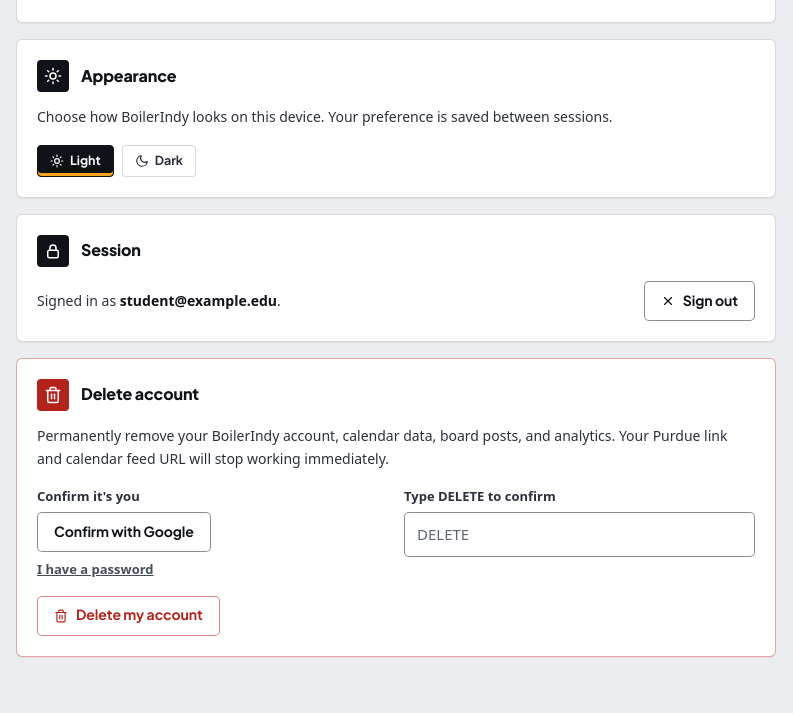
Scenario: Settings: delete a Google account › does not leave for Google when the server cannot start the confirmation
The image size is (793, 713).
(page scrolled)
Click the button "Confirm with Google". click: (124, 532)
box: [37,512,211,552]
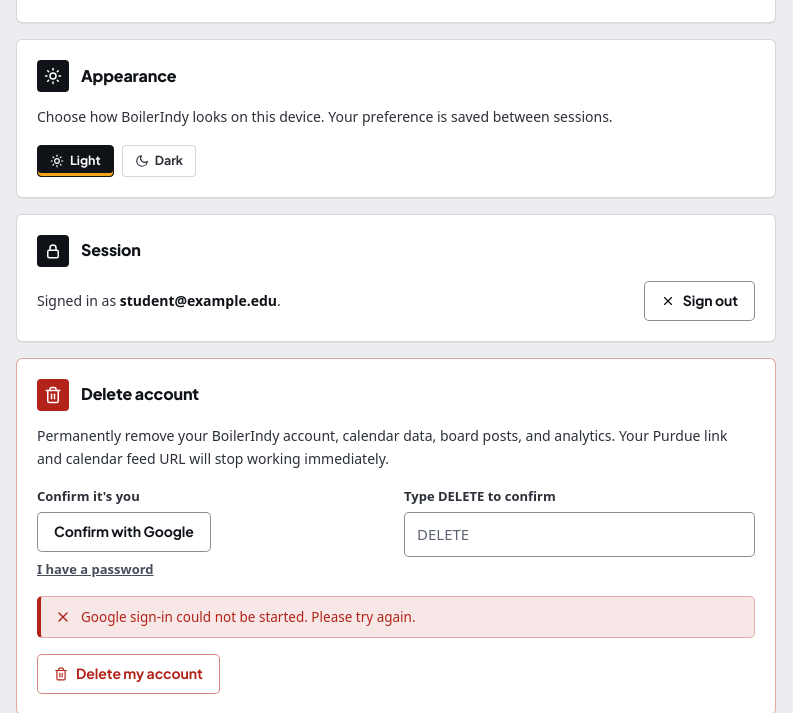
Check: the message reads "Google sign-in could not be started. Please try again.", box [81,608,416,626]
